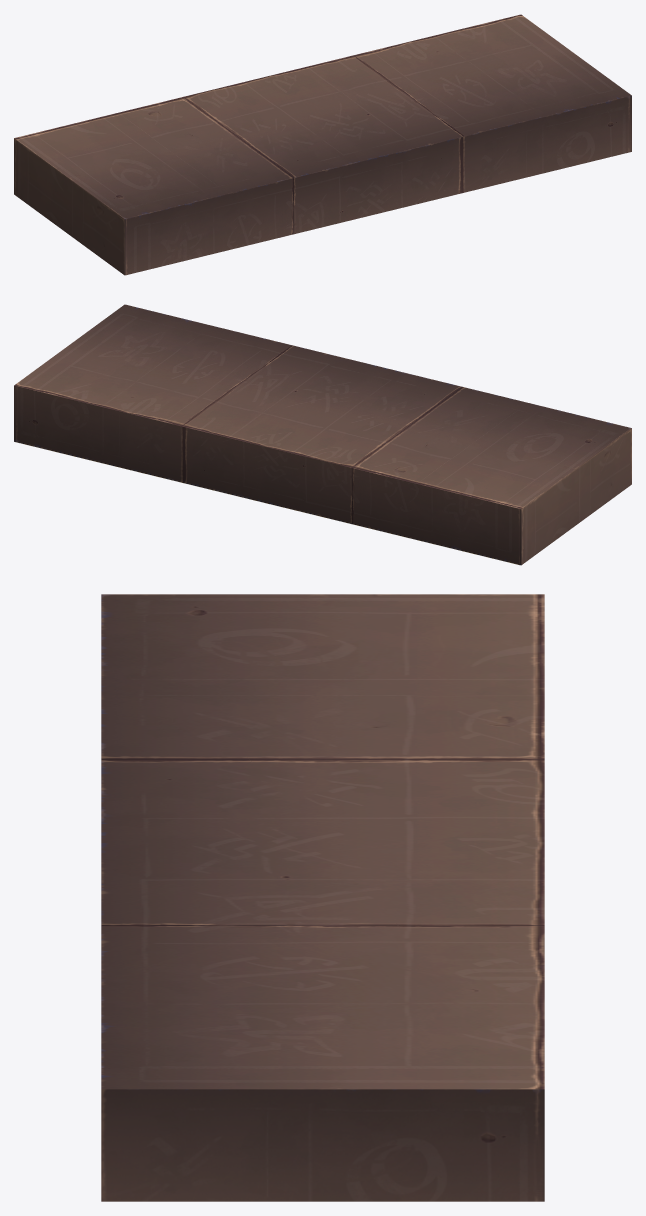
The model's file is AbyssTile.fbx.
3 views of the same model, one above another, from view 1: azimuth 30°, elevation 25°; view 2: azimuth 150°, elevation 25°; view 3: azimuth 270°, elevation 25° (orthographic). The views are drawn at different scales.
Parts seen in each view (by area): view 1: prop_AbyssTile; view 2: prop_AbyssTile; view 3: prop_AbyssTile.
Boxes of the visible parts, box(x1,y1,x2,y2) form: prop_AbyssTile: box(14, 14, 631, 275); prop_AbyssTile: box(14, 304, 631, 565); prop_AbyssTile: box(101, 594, 544, 1201).
Size of the model in its own units: 1146 by 122 by 434.
